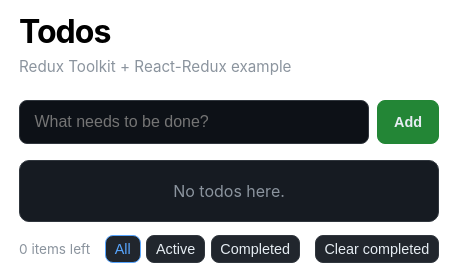
Test: TodoList › adds a todo from the form
The width and height of the screenshot is (456, 280).
Type "Ship the feature" into the field named "new todo". click: (194, 122)
box: [19,100,369,144]
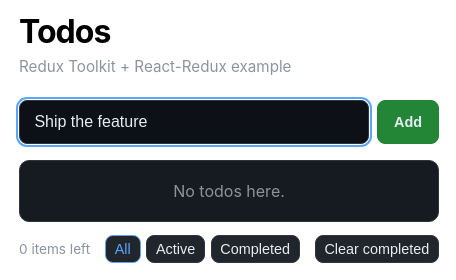
Click the button "Add". click: (408, 122)
box: [377,100,439,144]
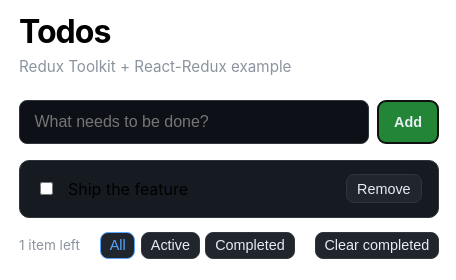
expect the text "Ship the feature" is shown: met, box [68,179,188,199]
expect the field named "new todo" is empty: met, box [19,100,369,144]
